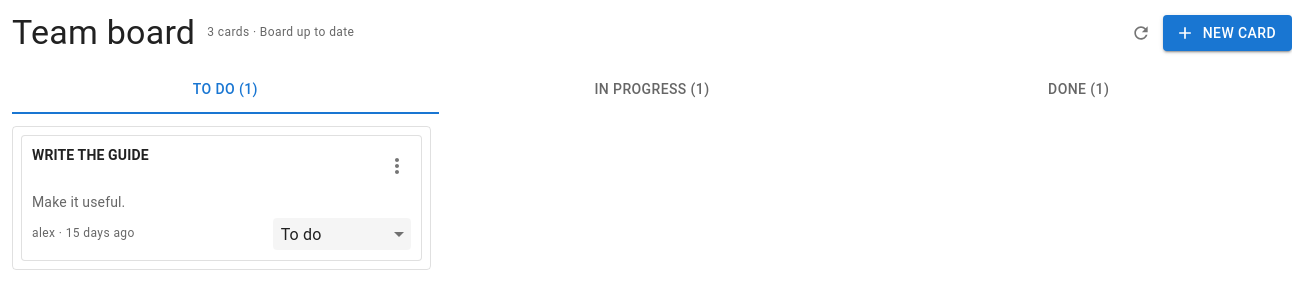
shared kanban board › exposes every mobile column through counted tabs while showing one column at a time
Check: the tab "To do (1)" is shown, box [12,66,439,114]
Check: the number of panels is 1, box [12,126,431,270]
What coordinates should you click on to do the following:
click the tab "In progress (1)"
I would click on:
 (652, 90)
Its box is [439,66,865,114].
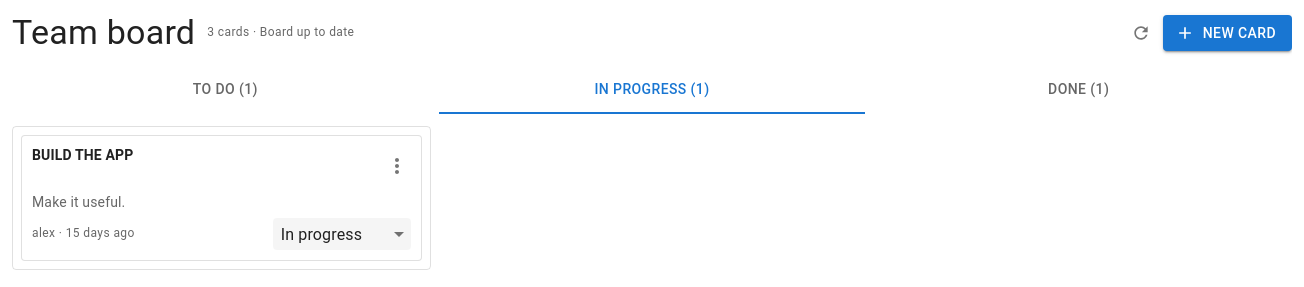
Check: the element "Build the app" is shown, box [21,135,422,261]
What coordinates should you click on to do the following:
click the tab "Done (1)"
I would click on:
 (1079, 90)
Its box is [865,66,1292,114].
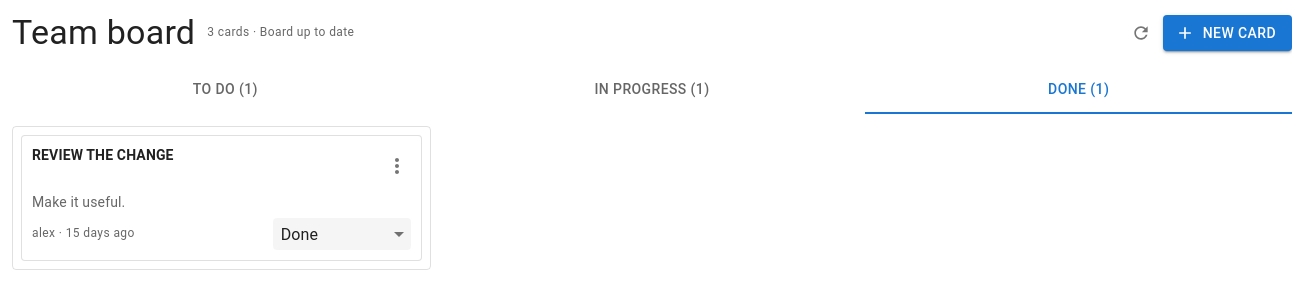
Check: the button "Write the guide" is not shown
Check: the element "Review the change" is shown, box [21,135,422,261]
